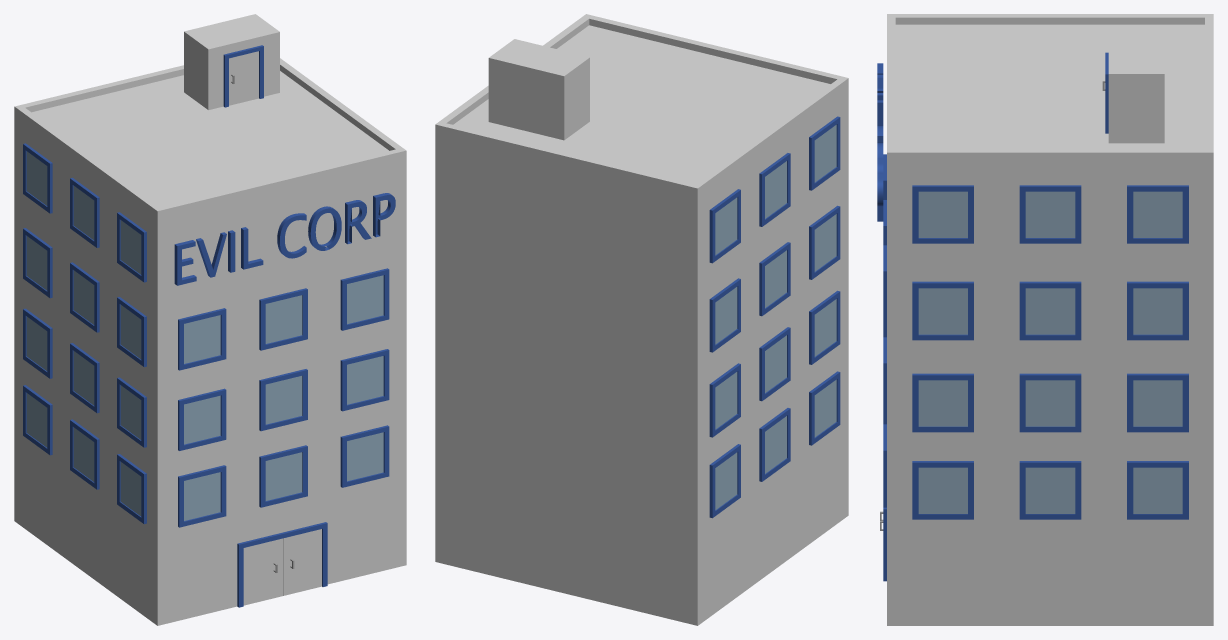
File: evilcorp_model01.fbx
3 views of the same model, side by side, from view 1: azimuth 30°, elevation 25°; view 2: azimuth 150°, elevation 25°; view 3: azimuth 270°, elevation 25° (orthographic). The views are drawn at different scales.
Parts seen in each view (by area): view 1: evilcorp; view 2: evilcorp; view 3: evilcorp.
Boxes of the visible parts, bbox=[...] form: evilcorp: bbox=[14, 14, 406, 625]; evilcorp: bbox=[435, 14, 848, 625]; evilcorp: bbox=[877, 14, 1213, 625].
Size of the model in its own units: 61.54 by 109 by 61.74.
